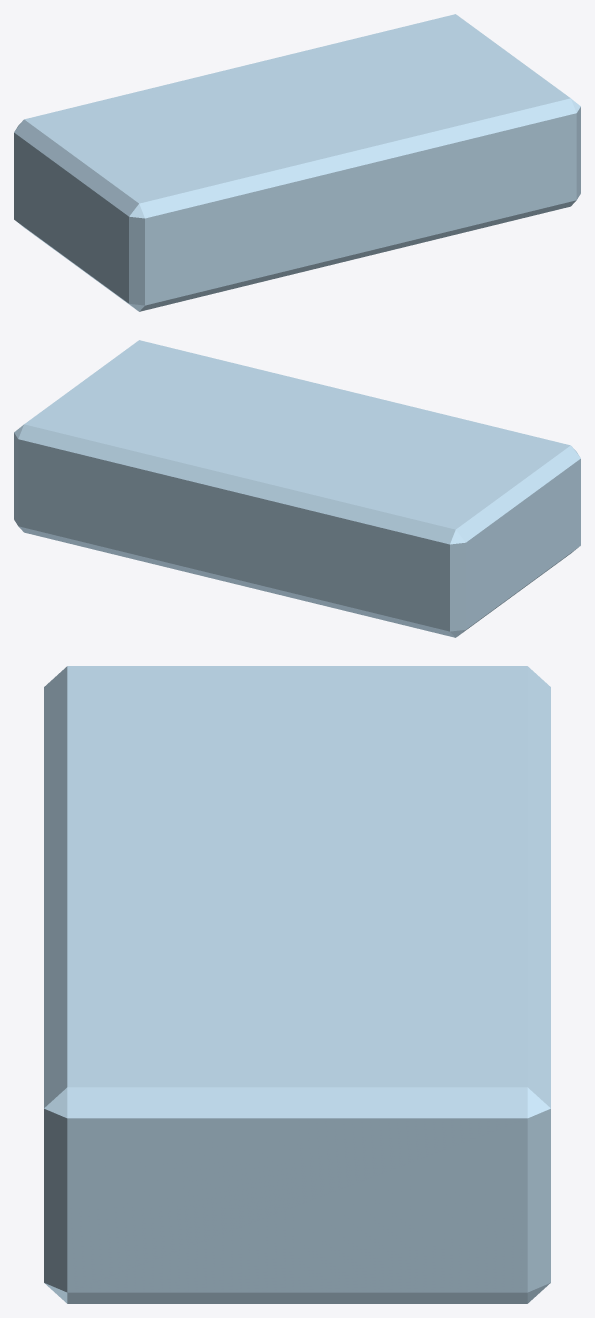
File: R4B_Plate1x2_LOD1.fbx
The picture shows the model from 3 angles, top to bottom: view 1: azimuth 30°, elevation 25°; view 2: azimuth 150°, elevation 25°; view 3: azimuth 270°, elevation 25°; orthographic projection. The views are drawn at different scales.
Parts seen in each view (by area): view 1: R4B_Plate1x2_LOD1; view 2: R4B_Plate1x2_LOD1; view 3: R4B_Plate1x2_LOD1.
Boxes of the visible parts, left/top/right/bottom form: R4B_Plate1x2_LOD1: left=14, top=14, right=580, bottom=311; R4B_Plate1x2_LOD1: left=14, top=340, right=580, bottom=637; R4B_Plate1x2_LOD1: left=44, top=666, right=550, bottom=1303.
Size of the model in its own units: 1.07 by 0.245 by 0.52.
